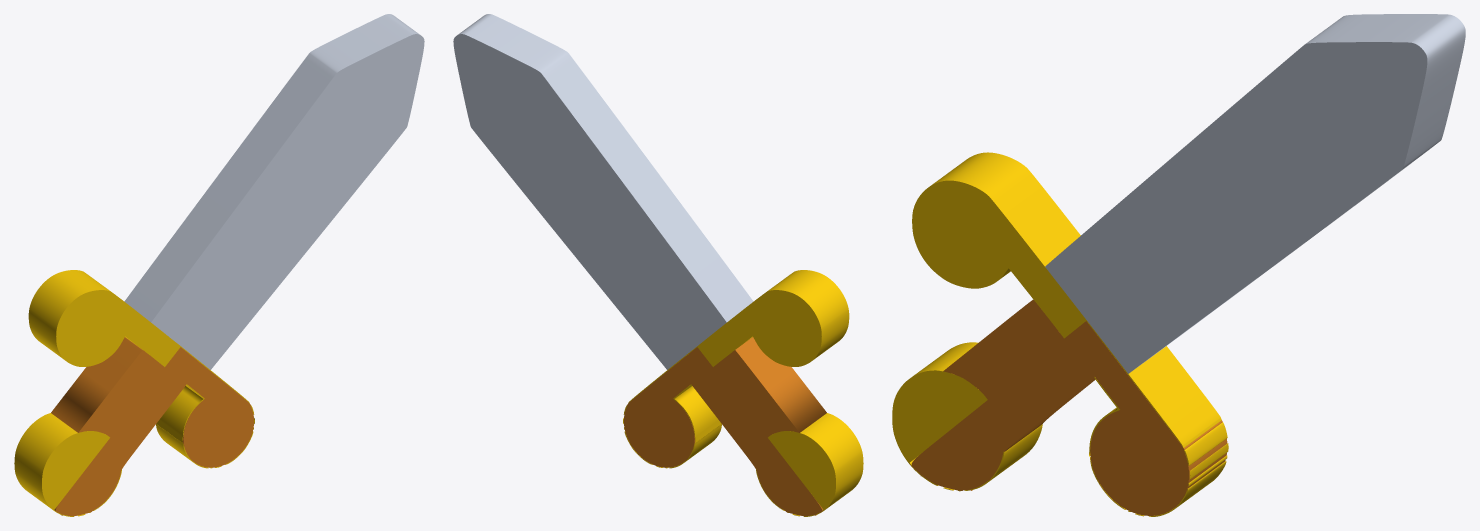
File: sword.fbx
3 views of the same model, side by side, from view 1: azimuth 30°, elevation 25°; view 2: azimuth 150°, elevation 25°; view 3: azimuth 330°, elevation 25° (orthographic). The views are drawn at different scales.
Visible parts, largest first — view 1: Curve, Curve.001, Curve.002; view 2: Curve, Curve.001, Curve.002; view 3: Curve, Curve.002, Curve.001.
Boxes of the visible parts, <box> form: Curve: <box>124,14,424,369</box>; Curve.001: <box>51,337,253,516</box>; Curve.002: <box>14,270,254,516</box>; Curve: <box>453,14,753,369</box>; Curve.001: <box>624,337,826,516</box>; Curve.002: <box>623,270,863,516</box>; Curve: <box>1045,14,1465,373</box>; Curve.002: <box>892,152,1228,516</box>; Curve.001: <box>911,299,1227,515</box>.
Bounding box in the file's own units: 161 × 161 × 20.
